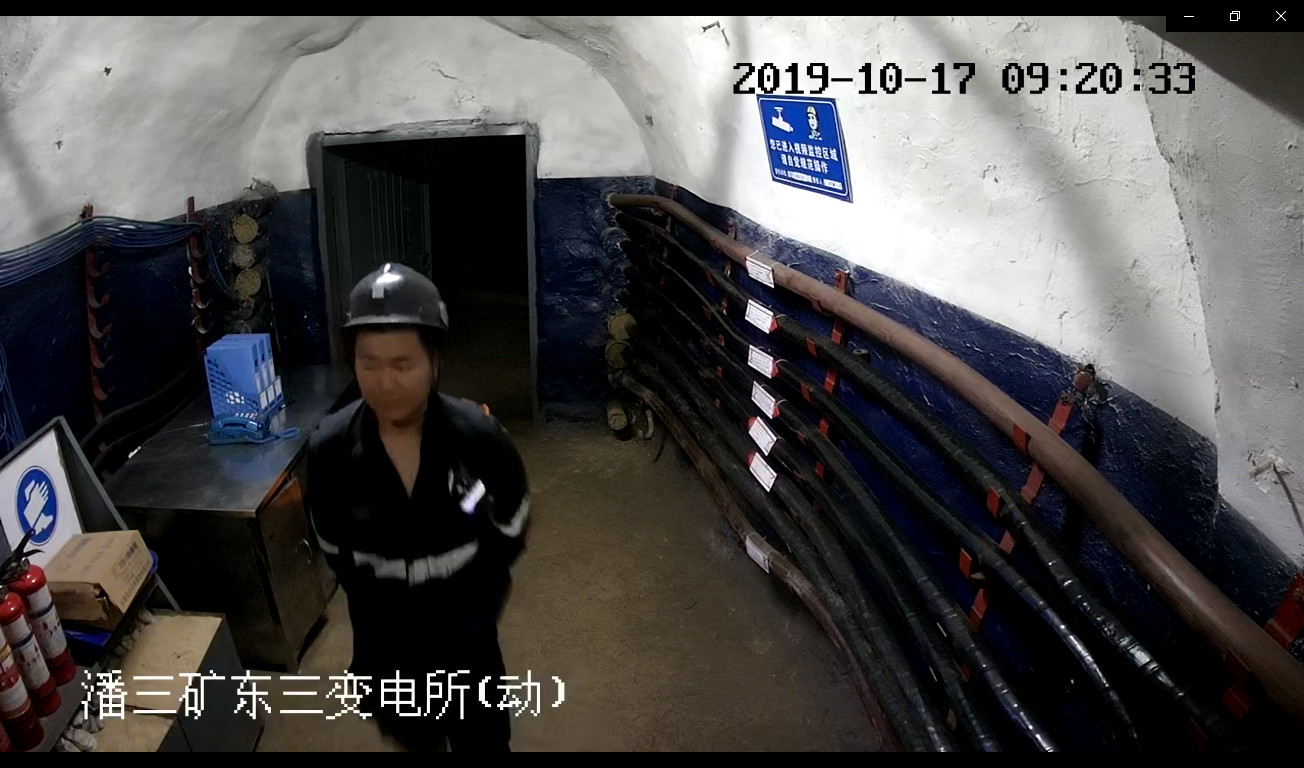helmet: (344, 262, 448, 330)
